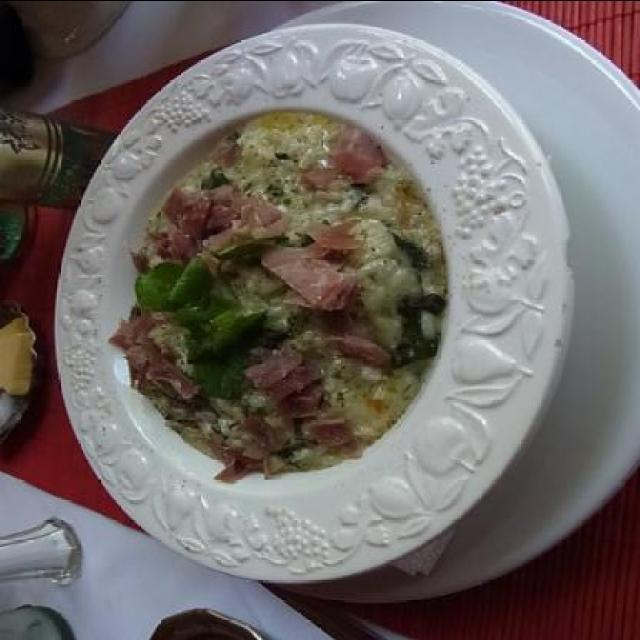Risotto: (115, 90, 473, 468)
